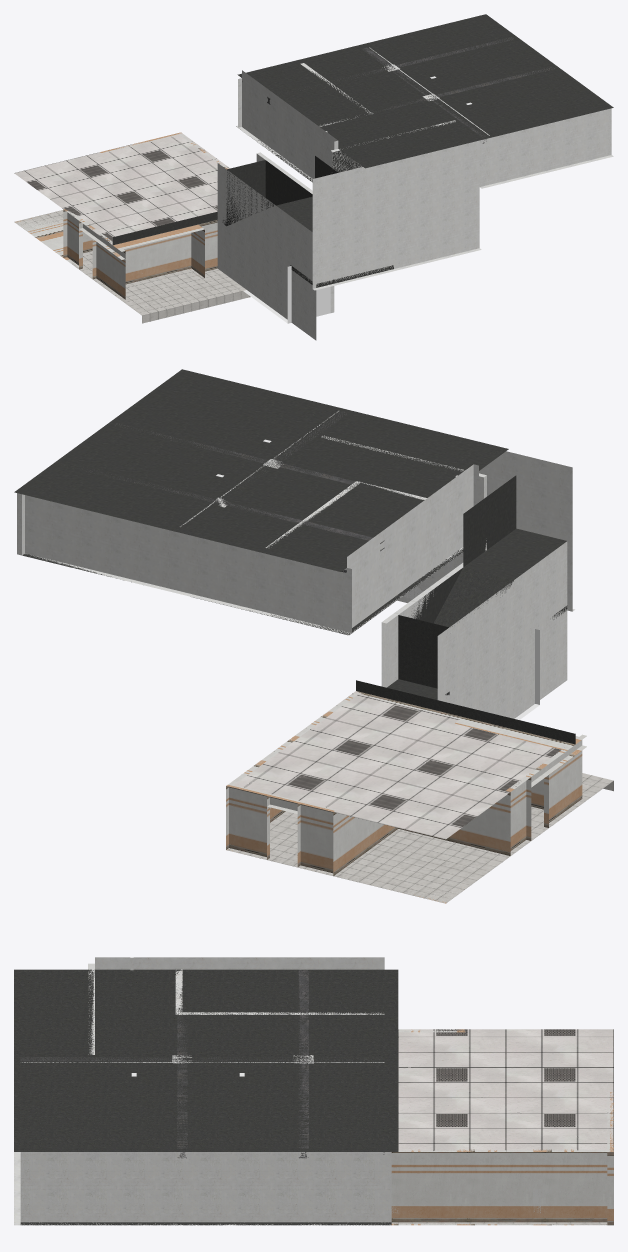
File: Intercom.fbx
3 renders of one model, top to bottom at view 1: azimuth 30°, elevation 25°; view 2: azimuth 150°, elevation 25°; view 3: azimuth 270°, elevation 25°, orthographic. The views are drawn at different scales.
Parts seen in each view (by area): view 1: default_25; view 2: default_25; view 3: default_25.
Part boxes in pixels (left/top/right/bottom): default_25: left=14, top=14, right=613, bottom=340; default_25: left=14, top=369, right=613, bottom=903; default_25: left=14, top=957, right=613, bottom=1225.
Size of the model in its own units: 3296 by 1408 by 2848.
9 materials, 6 textured.
